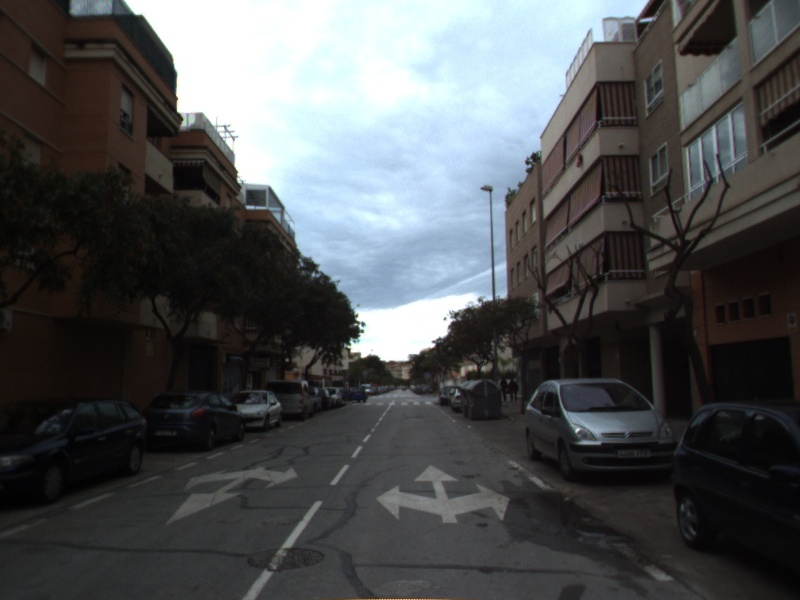STRAIGHT_LEFT_RIGHT: (374, 463, 513, 525)
